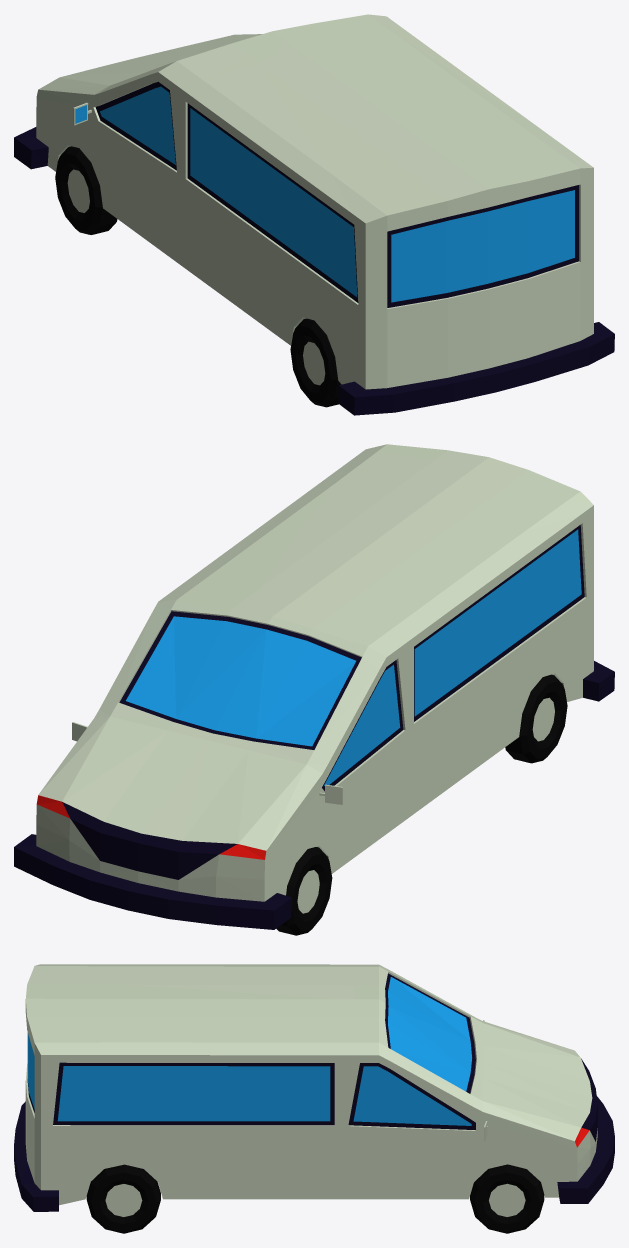
The model's file is car_van.obj.
The picture shows the model from 3 angles, top to bottom: view 1: azimuth 30°, elevation 25°; view 2: azimuth 150°, elevation 25°; view 3: azimuth 270°, elevation 25°; orthographic projection. The views are drawn at different scales.
Visible parts, largest first — view 1: body.002, tire1.003, tire2.001; view 2: body.002, tire2.001, tire1.003; view 3: body.002, tire2.001, tire1.003.
Part boxes in pixels (x1=…): body.002: x1=14, y1=14, x2=614, y2=415; tire1.003: x1=55, y1=146, x2=117, y2=234; tire2.001: x1=290, y1=318, x2=341, y2=407; body.002: x1=14, y1=444, x2=614, y2=929; tire2.001: x1=505, y1=674, x2=567, y2=763; tire1.003: x1=276, y1=847, x2=332, y2=935; body.002: x1=14, y1=964, x2=614, y2=1211; tire2.001: x1=86, y1=1164, x2=160, y2=1233; tire1.003: x1=470, y1=1164, x2=544, y2=1233.
Size of the model in its own units: 2.37 by 1.95 by 5.62.
